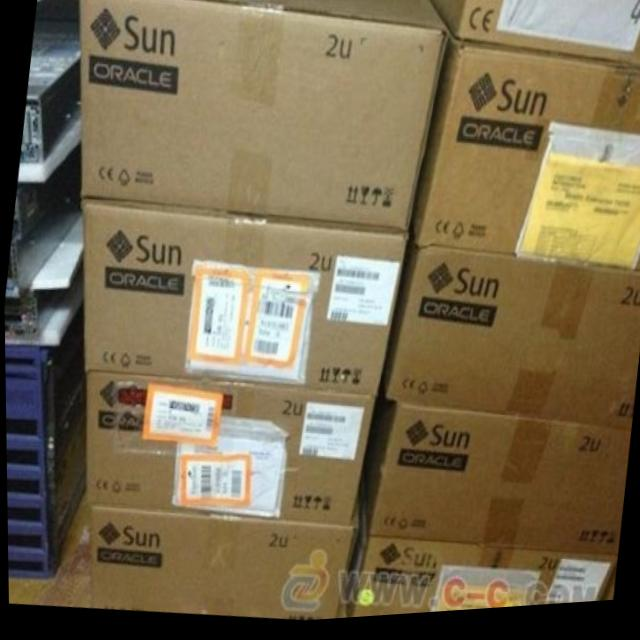box: (78, 0, 449, 236), (80, 203, 408, 401), (411, 36, 640, 278), (380, 236, 640, 439), (361, 382, 628, 563), (84, 372, 375, 528), (340, 480, 616, 622), (87, 501, 357, 624), (429, 0, 640, 73), (598, 565, 614, 609)
